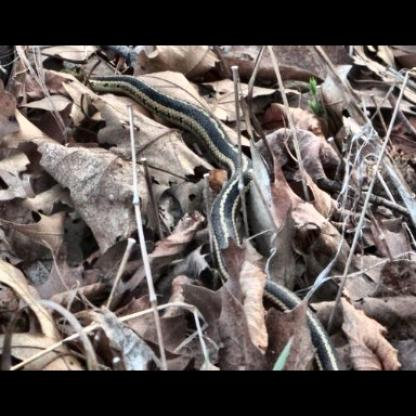Snake: (80, 66, 259, 200)
